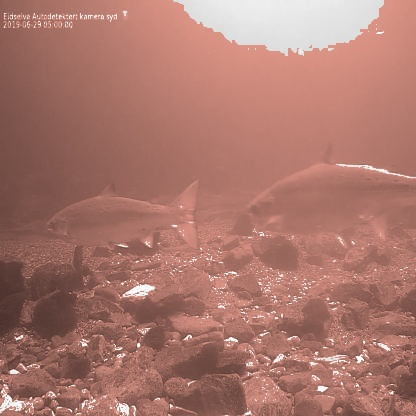salmon: (244, 139, 416, 248), (45, 177, 202, 255)
